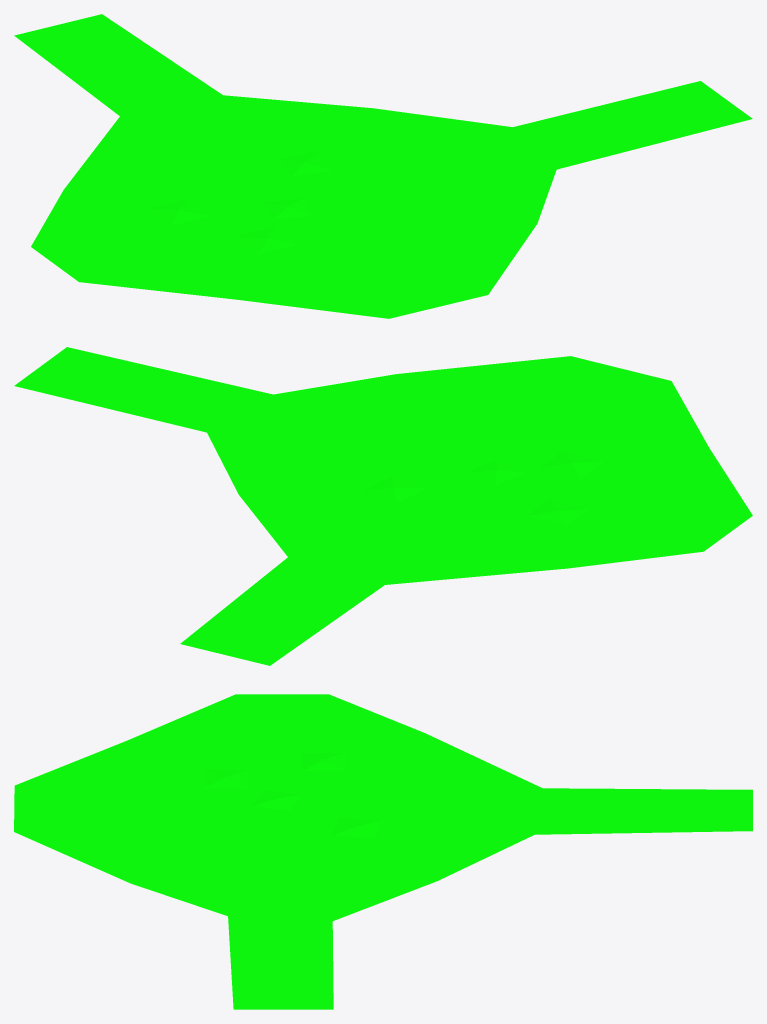
File: s07a_lc1-floor.glb
The picture shows the model from 3 angles, top to bottom: view 1: azimuth 30°, elevation 25°; view 2: azimuth 150°, elevation 25°; view 3: azimuth 270°, elevation 25°; orthographic projection. The views are drawn at different scales.
Parts seen in each view (by area): view 1: collision_floor-colonly; view 2: collision_floor-colonly; view 3: collision_floor-colonly.
Boxes of the visible parts, x1,y1,x2,y2 form: collision_floor-colonly: (14, 14, 752, 318); collision_floor-colonly: (14, 347, 752, 665); collision_floor-colonly: (14, 694, 752, 1009).
Size of the model in its own units: 48.39 by 0.2461 by 47.89.
